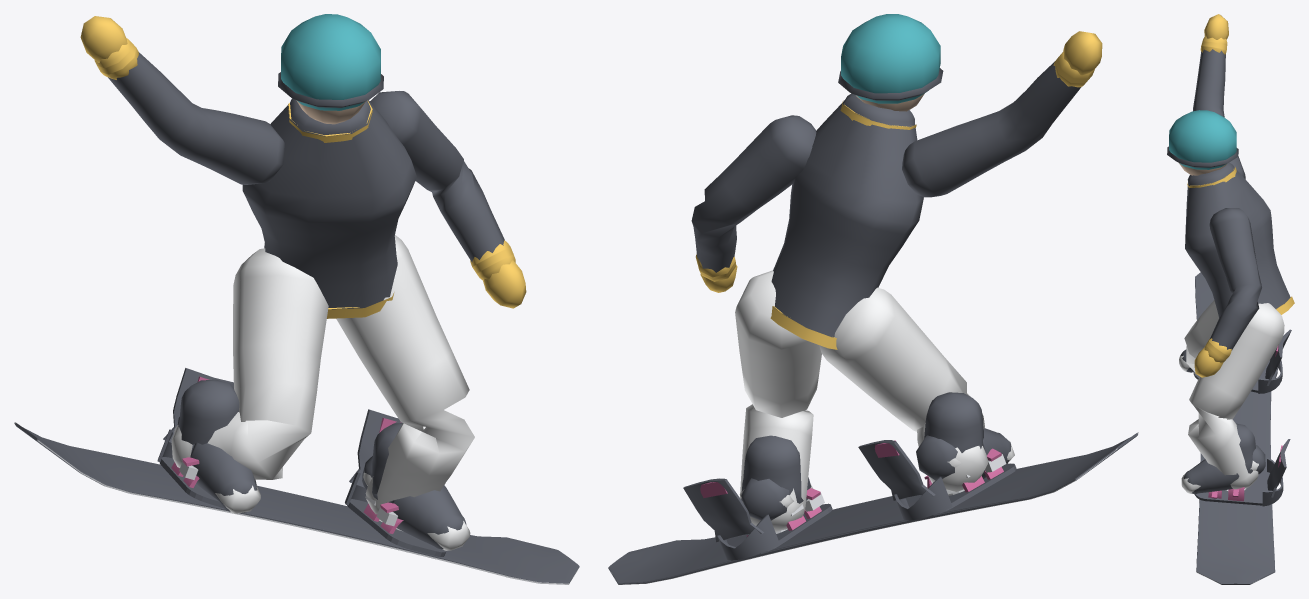
Rendered from snowboard-gear-and-freestyle-riders-rider-ollie-pop-5817c246__27171.glb.
3 views of the same model, side by side, from view 1: azimuth 30°, elevation 25°; view 2: azimuth 150°, elevation 25°; view 3: azimuth 270°, elevation 25° (orthographic). The views are drawn at different scales.
Parts seen in each view (by area): view 1: rider-ollie-pop; view 2: rider-ollie-pop; view 3: rider-ollie-pop.
Part boxes in pixels (box(x1,y1,x2,y2)): rider-ollie-pop: box(14, 14, 579, 584); rider-ollie-pop: box(608, 14, 1138, 584); rider-ollie-pop: box(1167, 14, 1294, 584).
Size of the model in its own units: 1.44 by 1.7 by 0.4677.
